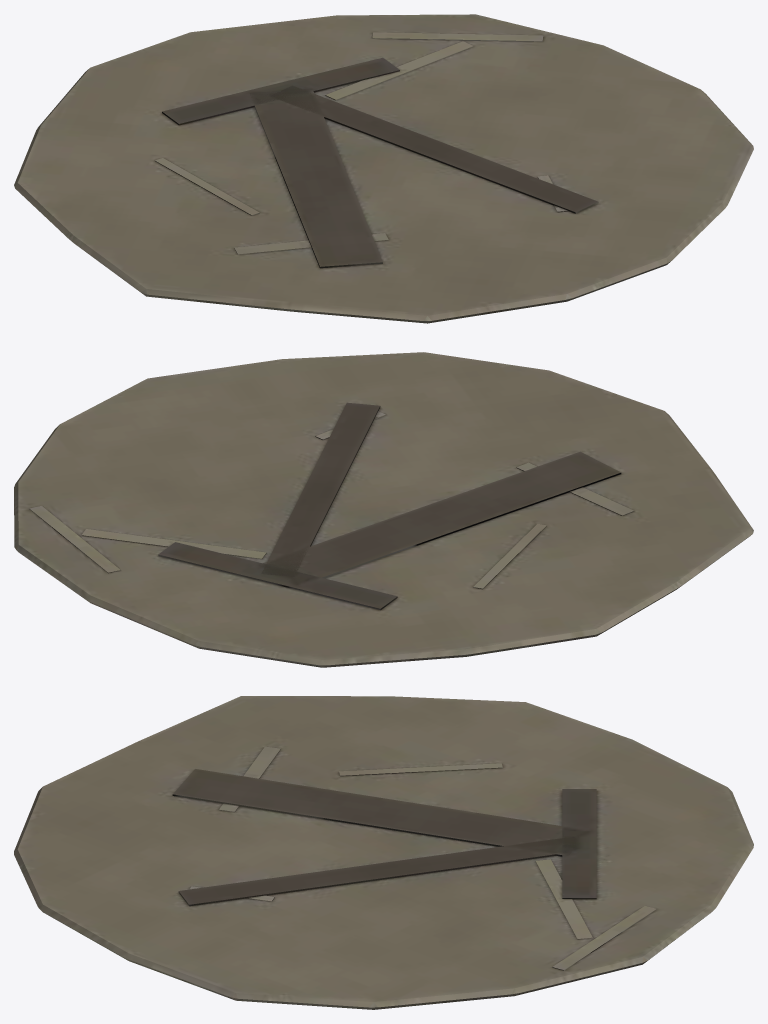
Rendered from camp_mark_strays.glb.
3 renders of one model, top to bottom at view 1: azimuth 30°, elevation 25°; view 2: azimuth 150°, elevation 25°; view 3: azimuth 270°, elevation 25°, orthographic.
Visible parts, largest first — view 1: camp_mark_strays_body; view 2: camp_mark_strays_body; view 3: camp_mark_strays_body.
Part boxes in pixels (bbox=[...]): camp_mark_strays_body: bbox=[14, 14, 753, 323]; camp_mark_strays_body: bbox=[14, 352, 753, 667]; camp_mark_strays_body: bbox=[14, 696, 753, 1009].
Bounding box in the file's own units: 1.7 × 0.0246 × 1.72.
Materials: 1 (1 with a texture image).
